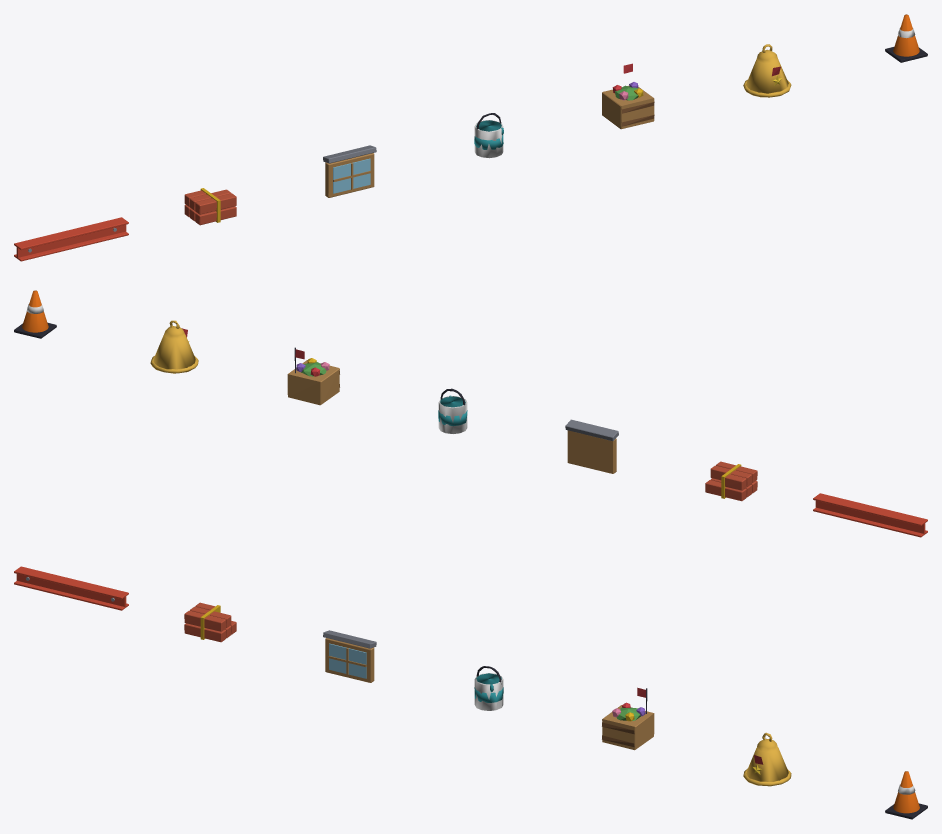
File: pieces-lod1.91dc54df.glb
3 renders of one model, top to bottom at view 1: azimuth 30°, elevation 25°; view 2: azimuth 150°, elevation 25°; view 3: azimuth 330°, elevation 25°, orthographic.
Visible parts, largest first — view 1: Piece_beam__T_vcol, Piece_panel__T_vcol, Piece_decor__T_vcol, Piece_bell__T_vcol, Piece_brick__T_vcol, Piece_paint__T_vcol, Piece_cone__T_vcol; view 2: Piece_beam__T_vcol, Piece_panel__T_vcol, Piece_decor__T_vcol, Piece_bell__T_vcol, Piece_brick__T_vcol, Piece_paint__T_vcol, Piece_cone__T_vcol; view 3: Piece_beam__T_vcol, Piece_panel__T_vcol, Piece_decor__T_vcol, Piece_bell__T_vcol, Piece_brick__T_vcol, Piece_paint__T_vcol, Piece_cone__T_vcol.
Boxes of the visible parts, x1,y1,x2,y2 form: Piece_beam__T_vcol: (14,217,128,261); Piece_panel__T_vcol: (323,145,376,197); Piece_decor__T_vcol: (602,63,654,129); Piece_bell__T_vcol: (743,44,791,97); Piece_brick__T_vcol: (184,188,236,225); Piece_paint__T_vcol: (474,113,503,158); Piece_cone__T_vcol: (885,14,927,62); Piece_beam__T_vcol: (813,493,927,537); Piece_panel__T_vcol: (565,419,618,473); Piece_decor__T_vcol: (287,347,339,405); Piece_bell__T_vcol: (150,320,198,373); Piece_brick__T_vcol: (705,461,757,501); Piece_paint__T_vcol: (438,388,467,433); Piece_cone__T_vcol: (14,290,56,338); Piece_beam__T_vcol: (14,566,128,610); Piece_panel__T_vcol: (323,630,376,682); Piece_decor__T_vcol: (602,687,654,750); Piece_bell__T_vcol: (743,732,791,786); Piece_brick__T_vcol: (184,602,236,642); Piece_paint__T_vcol: (474,666,503,710); Piece_cone__T_vcol: (885,771,927,819).
Bounding box in the file's own units: 11.68 × 0.6996 × 0.5378.
